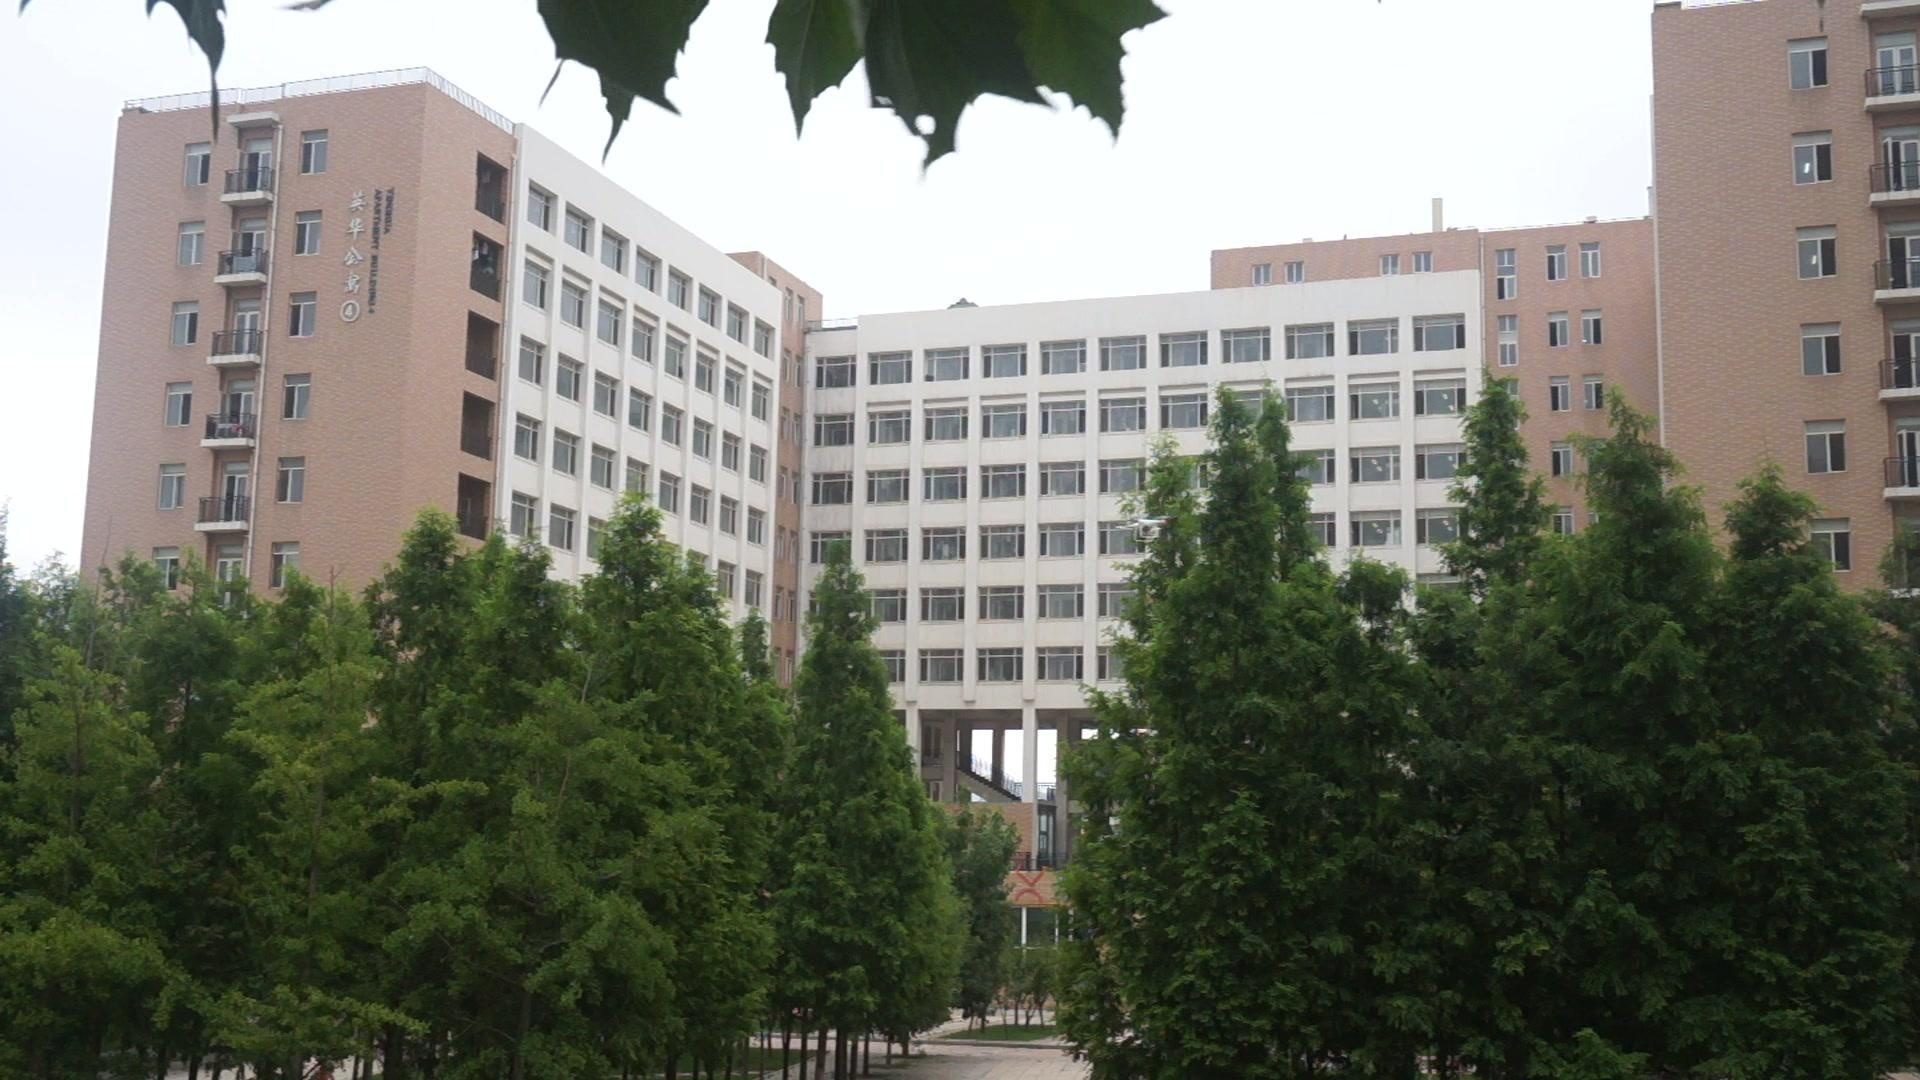UAV: (1116, 516, 1176, 545)
